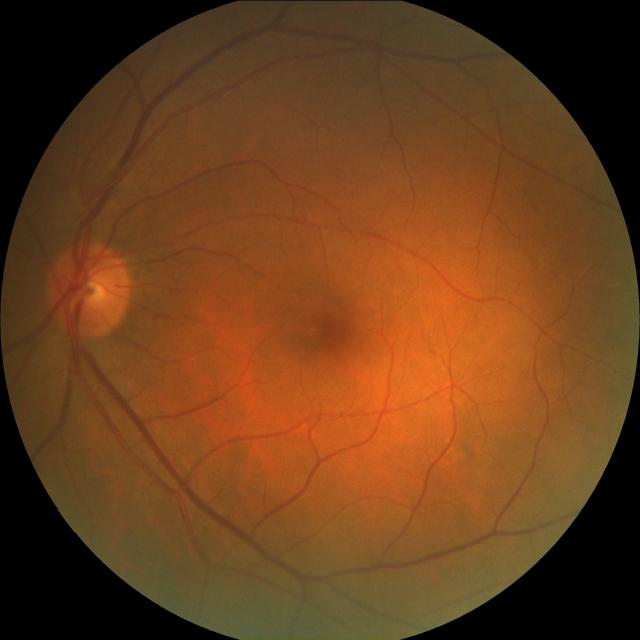OC: (72, 264, 115, 310)
OD: (46, 240, 132, 338)
